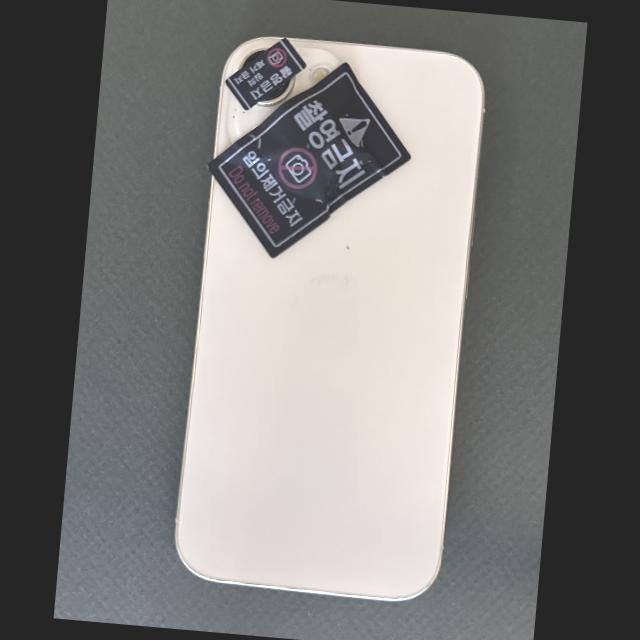lens: (258, 76, 295, 104)
phone: (173, 36, 485, 602)
sticker: (206, 62, 411, 259), (225, 37, 306, 111)
